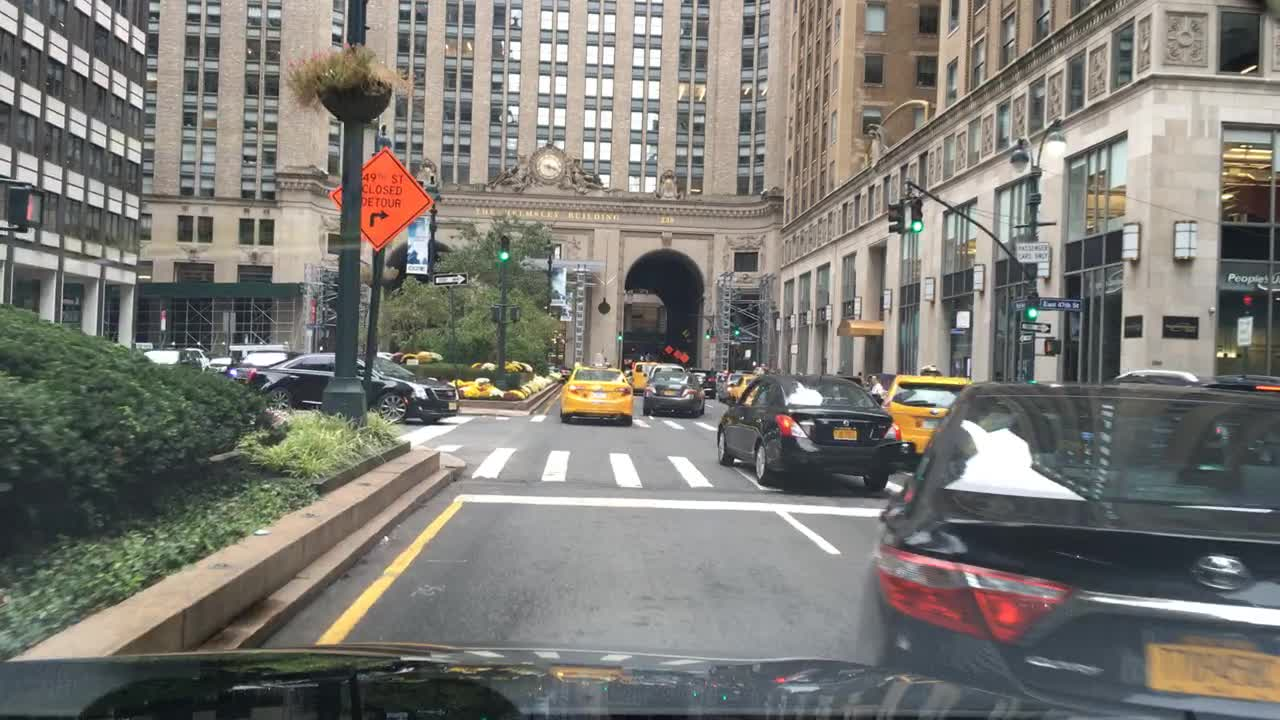car: (848, 381, 1278, 716), (711, 370, 915, 491), (227, 349, 459, 422), (557, 349, 632, 424), (643, 369, 705, 416), (228, 347, 299, 382), (1204, 369, 1276, 392), (139, 344, 198, 372), (1111, 367, 1200, 384), (684, 364, 717, 398), (727, 372, 759, 404), (647, 360, 682, 382), (630, 360, 650, 396), (835, 370, 869, 390), (185, 346, 210, 370), (713, 370, 733, 399), (202, 355, 234, 372), (620, 361, 633, 382)
person: (872, 361, 970, 459), (866, 370, 886, 401)
traffic light: (4, 185, 46, 226), (885, 200, 903, 234), (908, 194, 925, 229), (1024, 295, 1039, 322), (498, 231, 510, 259), (1015, 340, 1032, 358), (1041, 340, 1061, 353), (487, 304, 502, 321), (508, 304, 521, 323), (616, 326, 625, 341), (704, 326, 713, 340), (732, 323, 741, 335)
traffic sign: (329, 145, 429, 245), (1017, 295, 1078, 309), (1013, 242, 1051, 258), (435, 272, 469, 283), (1237, 317, 1250, 344), (221, 309, 234, 330), (1020, 321, 1049, 329), (677, 349, 689, 362), (159, 309, 167, 327), (661, 343, 674, 354), (671, 347, 681, 359), (1017, 335, 1032, 341)
